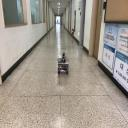cart: (57, 59, 69, 75)
